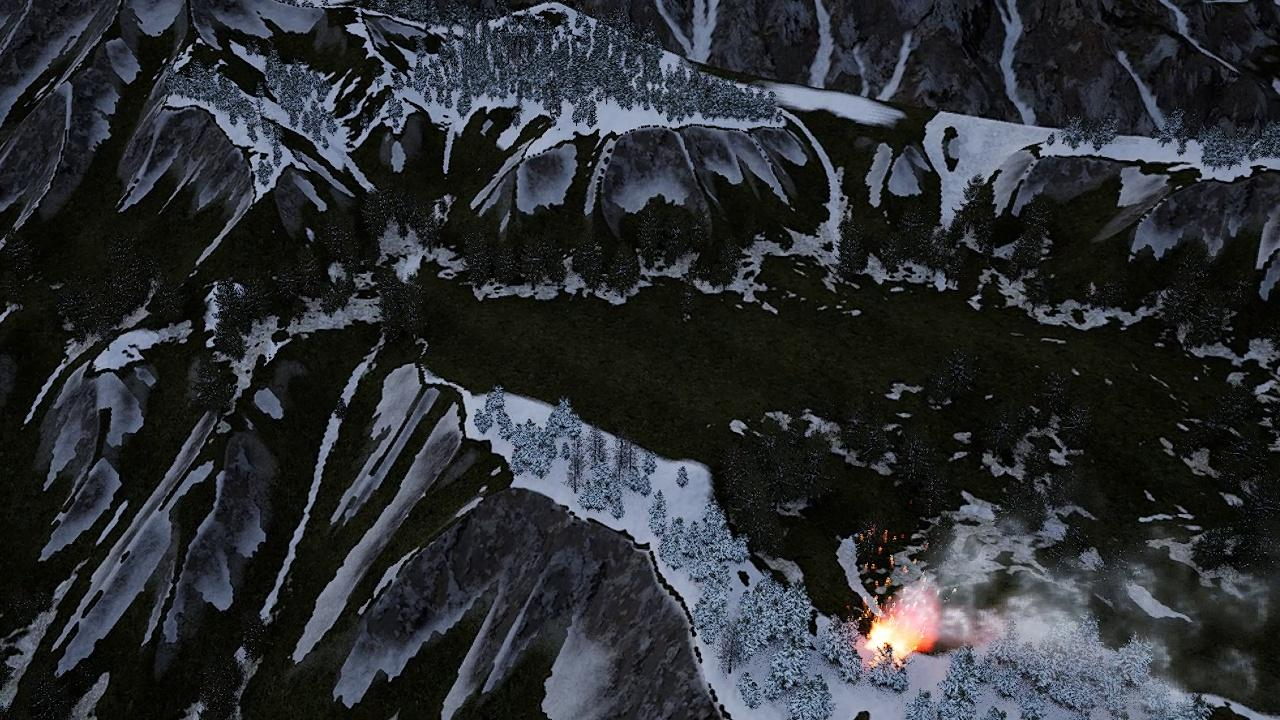fire: (867, 615, 931, 661)
smoke: (888, 519, 1271, 698)
